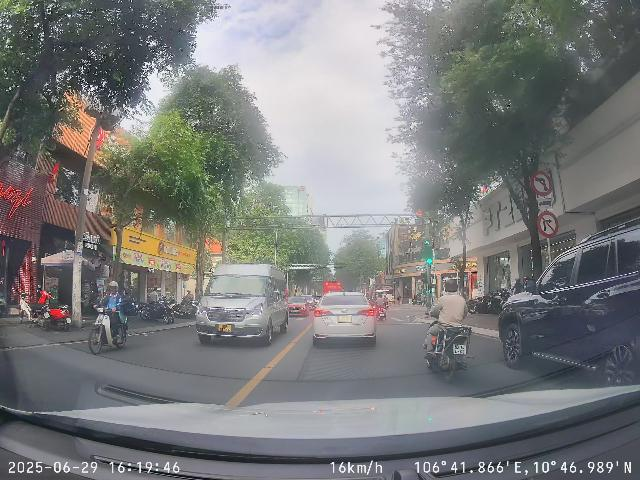123a-cam-re-trai: (531, 171, 553, 196)
123b-cam-re-phai: (537, 211, 559, 238)
